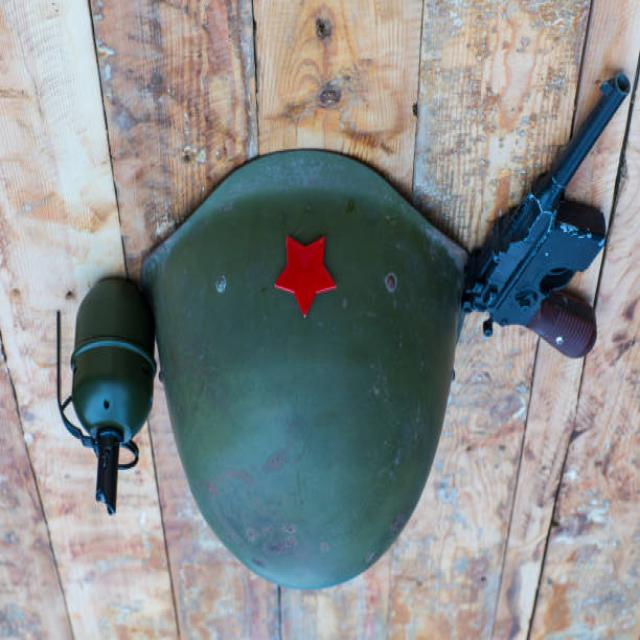grenade: (50, 275, 161, 528)
